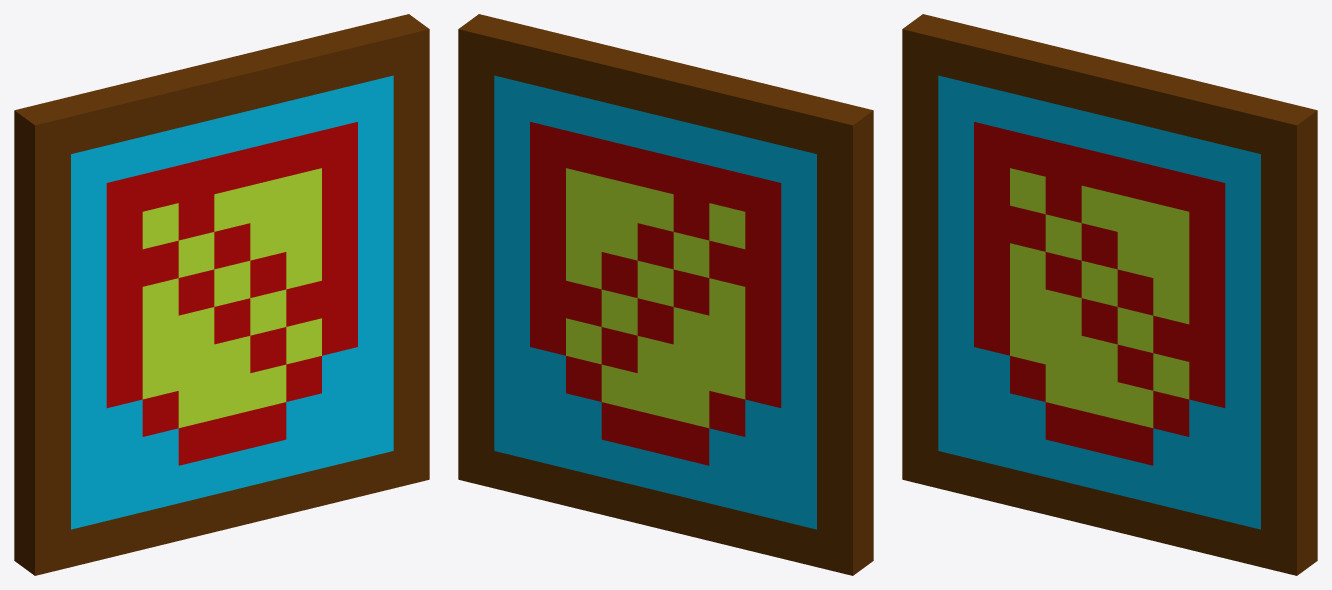
The model's file is house_painting.obj.
3 views of the same model, side by side, from view 1: azimuth 30°, elevation 25°; view 2: azimuth 150°, elevation 25°; view 3: azimuth 330°, elevation 25° (orthographic).
Visible parts, largest first — view 1: house_painting; view 2: house_painting; view 3: house_painting.
Part boxes in pixels (box(x1,y1,x2,y2)): house_painting: box(14, 14, 429, 575); house_painting: box(458, 14, 873, 575); house_painting: box(902, 14, 1317, 575).
Size of the model in its own units: 11 by 12 by 1.
Materials: 1 (1 with a texture image).
